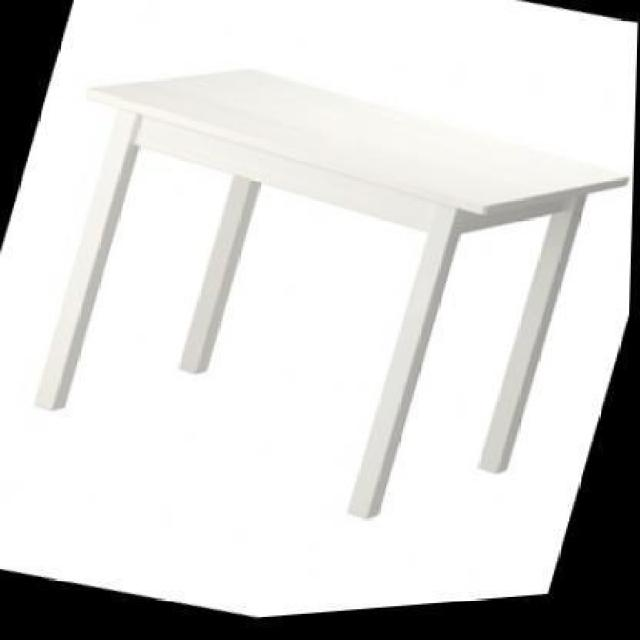tables: (31, 63, 631, 519)
